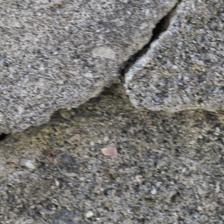Crack: (53, 3, 133, 101)
